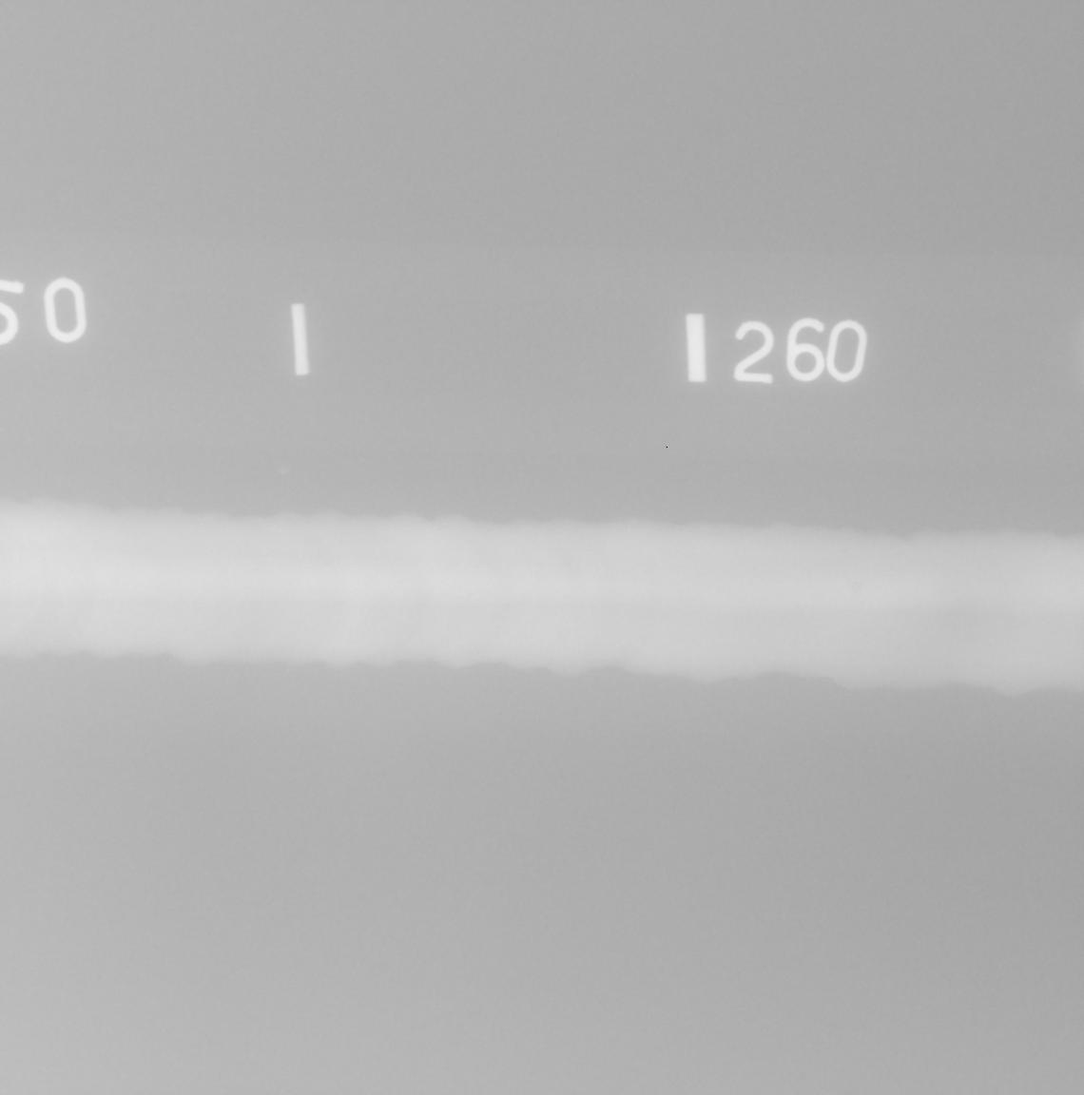Pore/Porosity: (850, 581, 865, 593)
